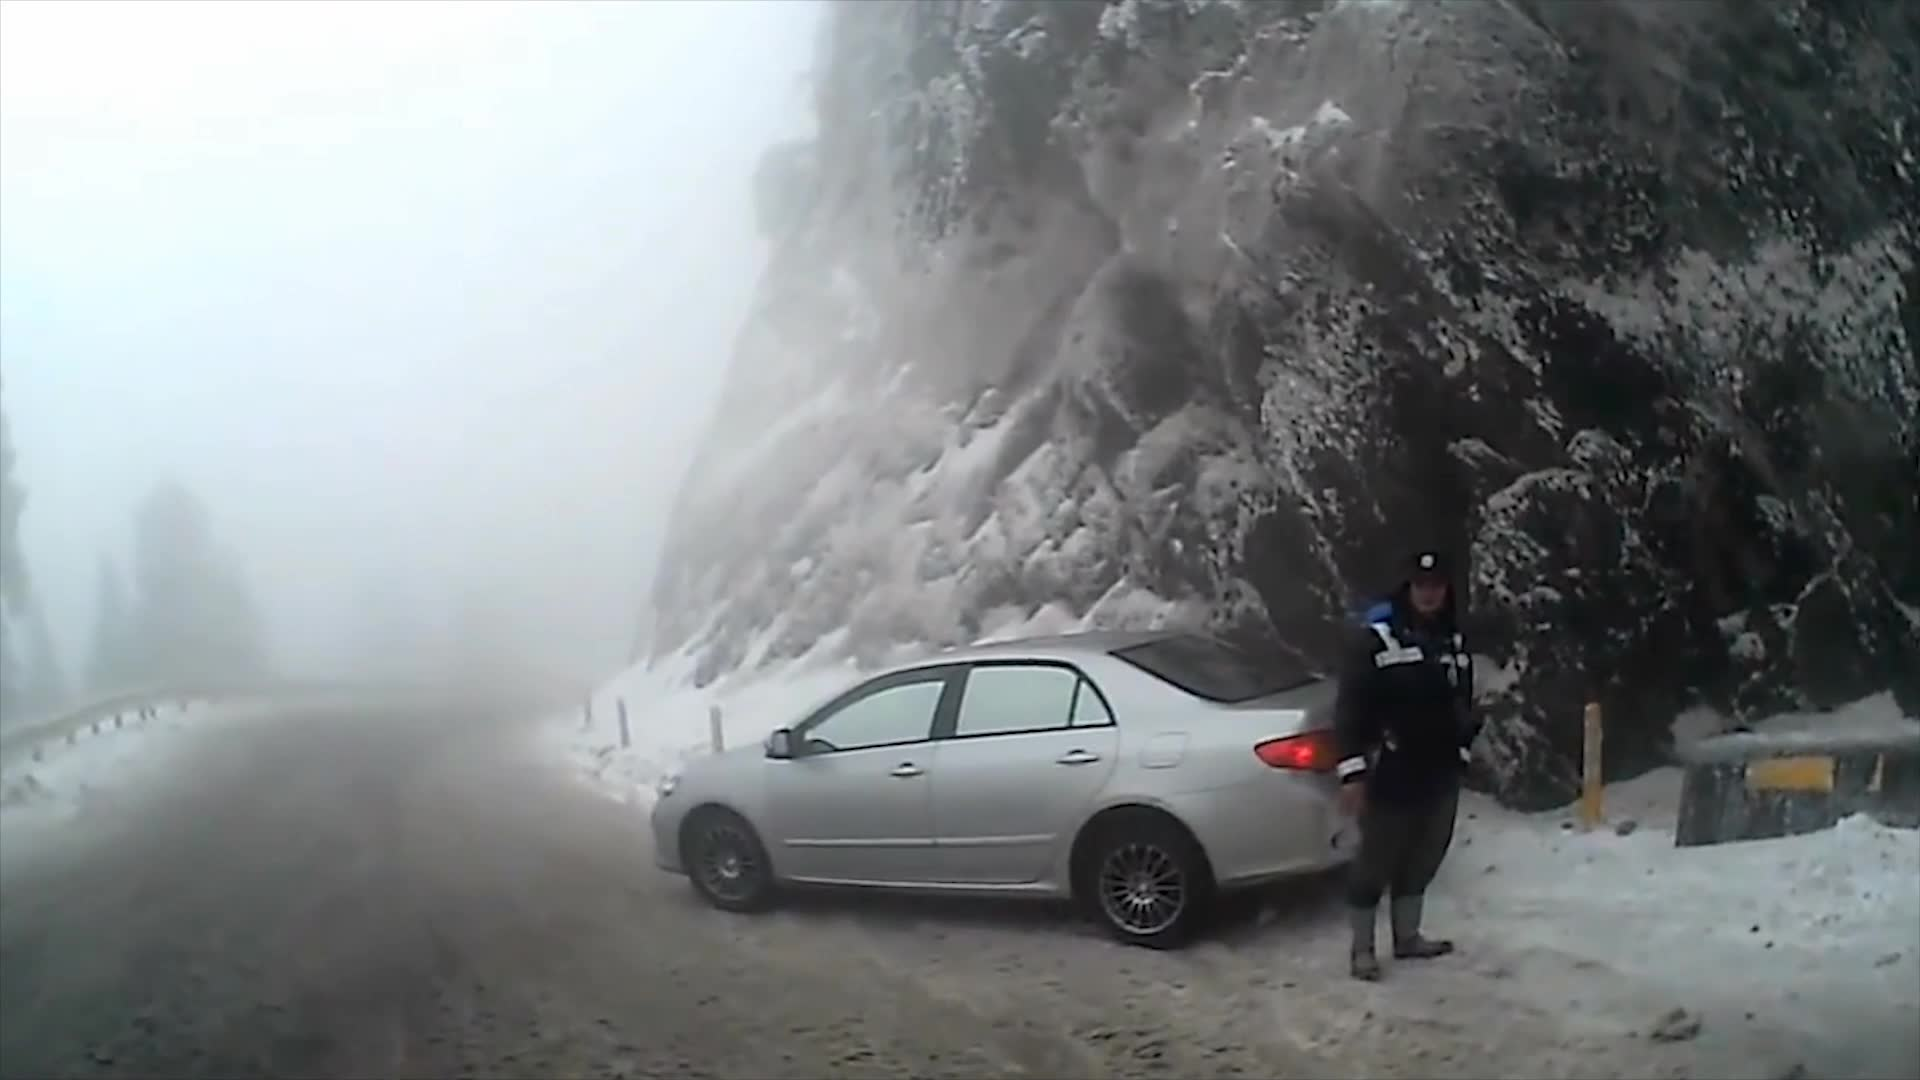pedestrian: (1323, 542, 1477, 976)
vehicle: (647, 624, 1429, 947)
